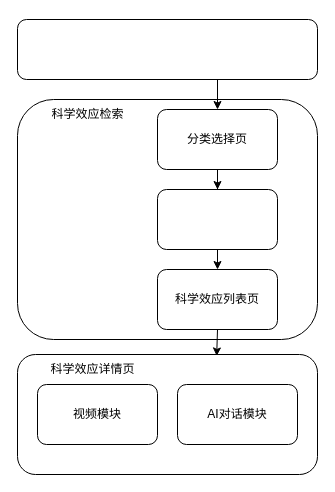
Image size: 335x492. Some labels were removed from this diagram. Here are the shapes that lost their labels. From the top down, the centre of each, then its label:
(x=167, y=49): 科学原理知识库系统
(x=217, y=219): 检索条件选择页
